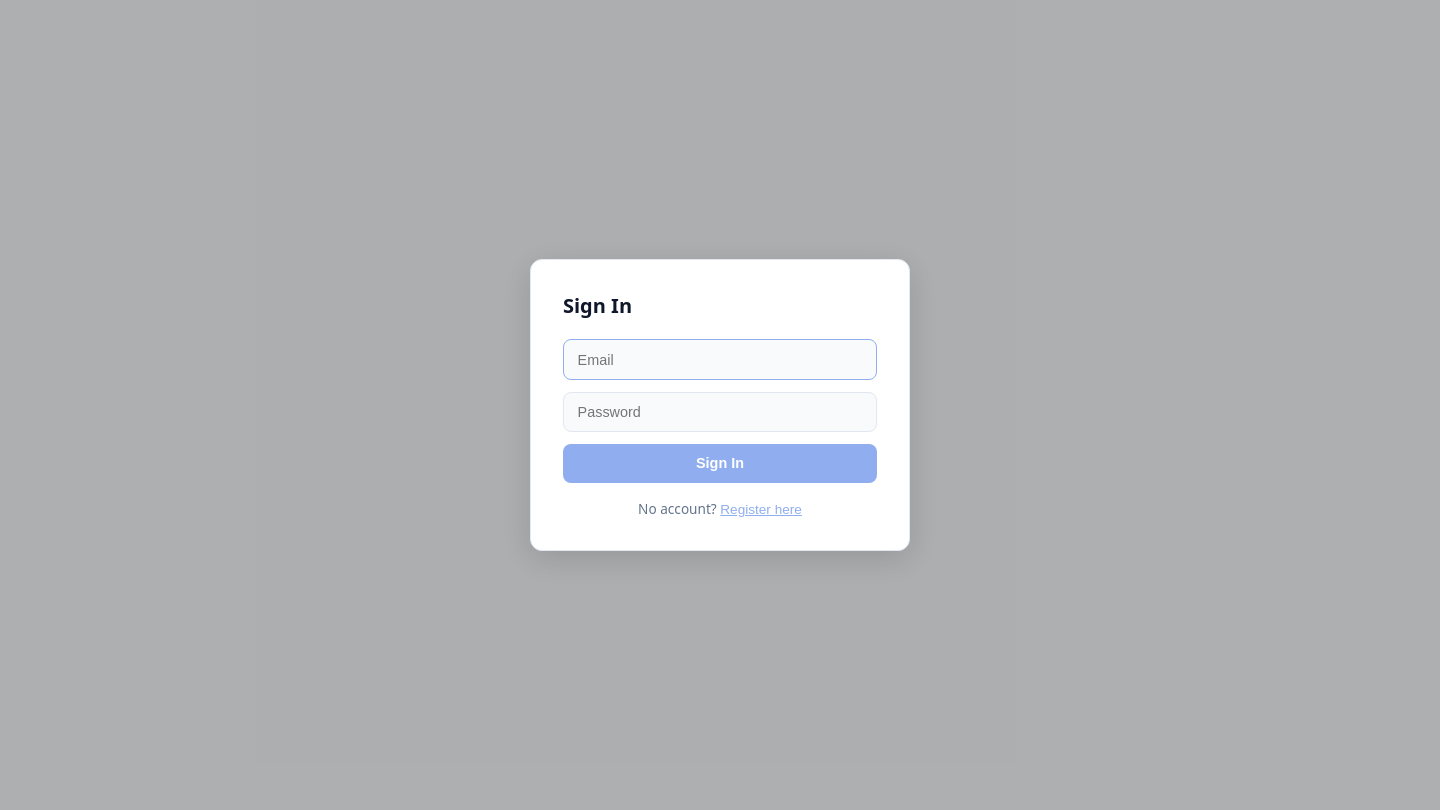
Scenario: AuthModal › should show validation error for empty email on login submit
The image size is (1440, 810).
Click the button "Sign In". click: click(720, 463)
box: [563,444,877,483]
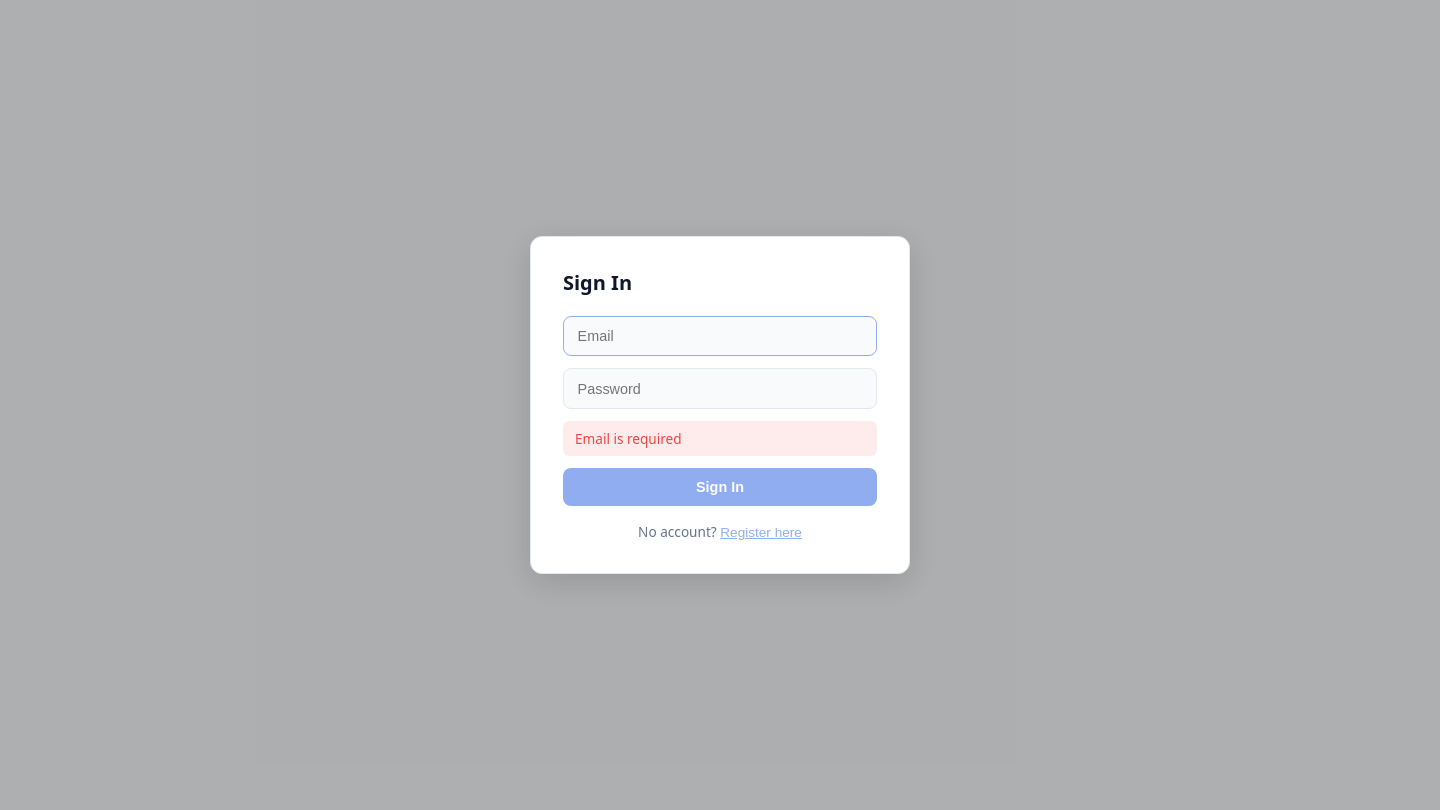
Now the text "Email is required" is shown, box [563,421,877,456]
